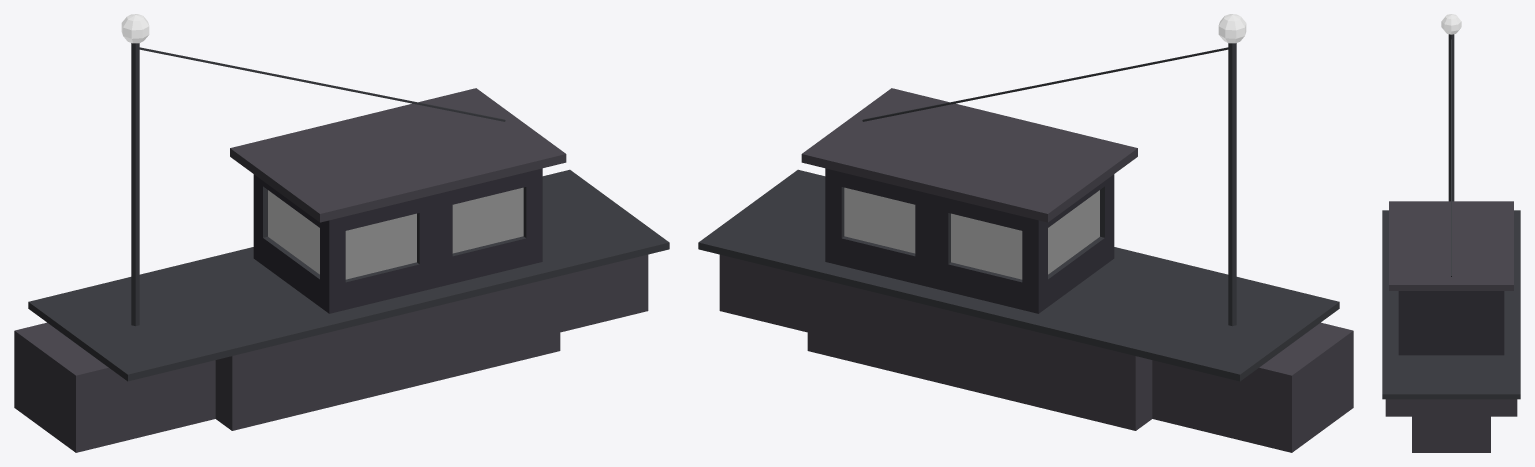
The model's file is cloud_skiff.glb.
3 views of the same model, side by side, from view 1: azimuth 30°, elevation 25°; view 2: azimuth 150°, elevation 25°; view 3: azimuth 270°, elevation 25° (orthographic). The views are drawn at different scales.
Visible parts, largest first — view 1: cloud_skiff; view 2: cloud_skiff; view 3: cloud_skiff.
Boxes of the visible parts, x1,y1,x2,y2 form: cloud_skiff: (14, 14, 669, 452); cloud_skiff: (698, 14, 1353, 452); cloud_skiff: (1382, 14, 1520, 452).
Bounding box in the file's own units: 7 × 4.58 × 2.1.
Materials: 5 (2 with a texture image).
